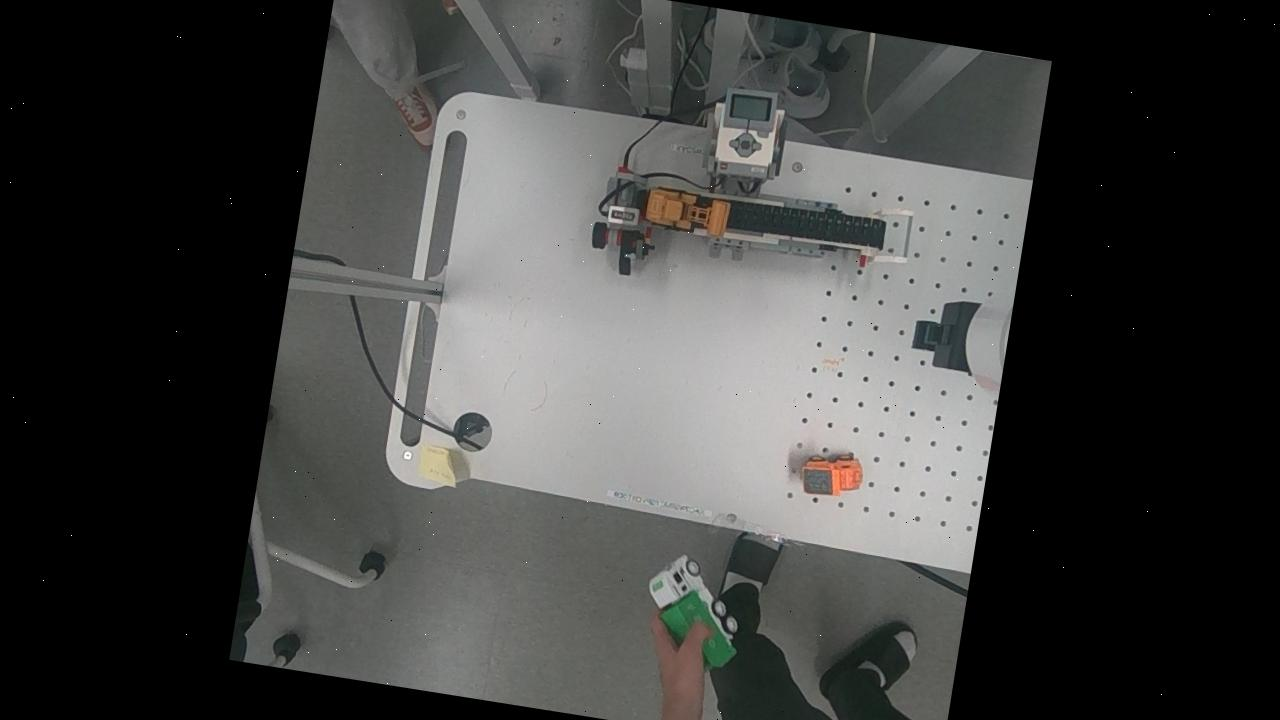green_car: (632, 544, 752, 678)
orange_car: (791, 443, 871, 507)
yellow_car: (636, 180, 737, 242)
